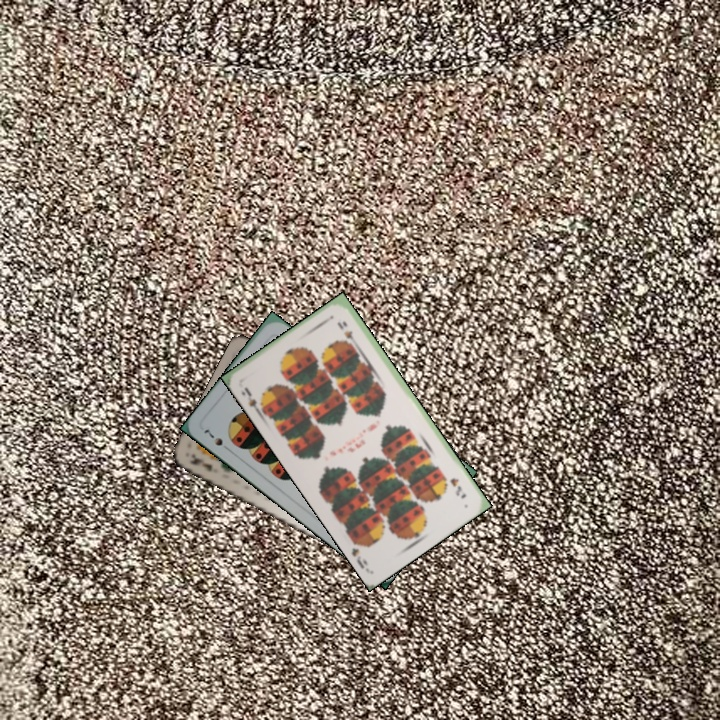EK: (185, 450, 216, 475)
S7: (200, 425, 234, 454)
S9: (240, 383, 268, 418), (446, 474, 469, 501)
